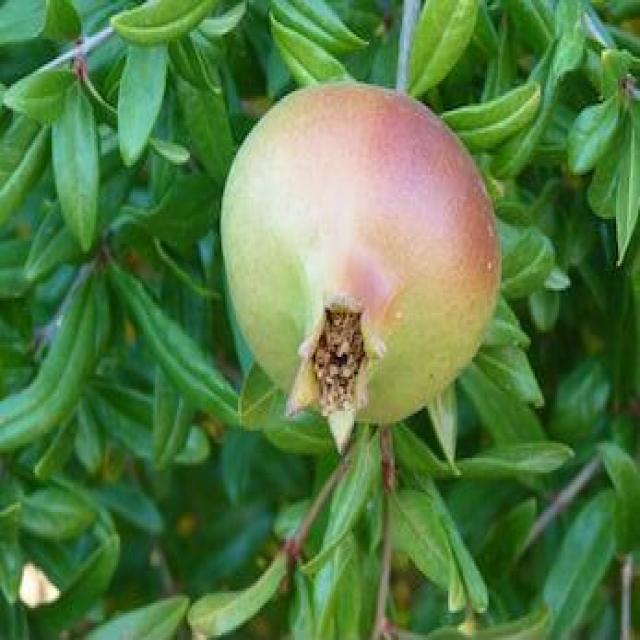Pomegranate: (221, 76, 505, 458)
